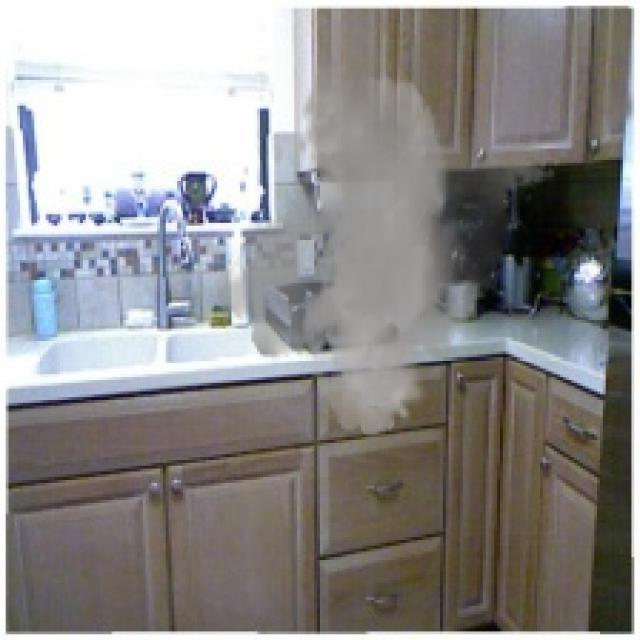Smoke: (206, 60, 563, 437)
